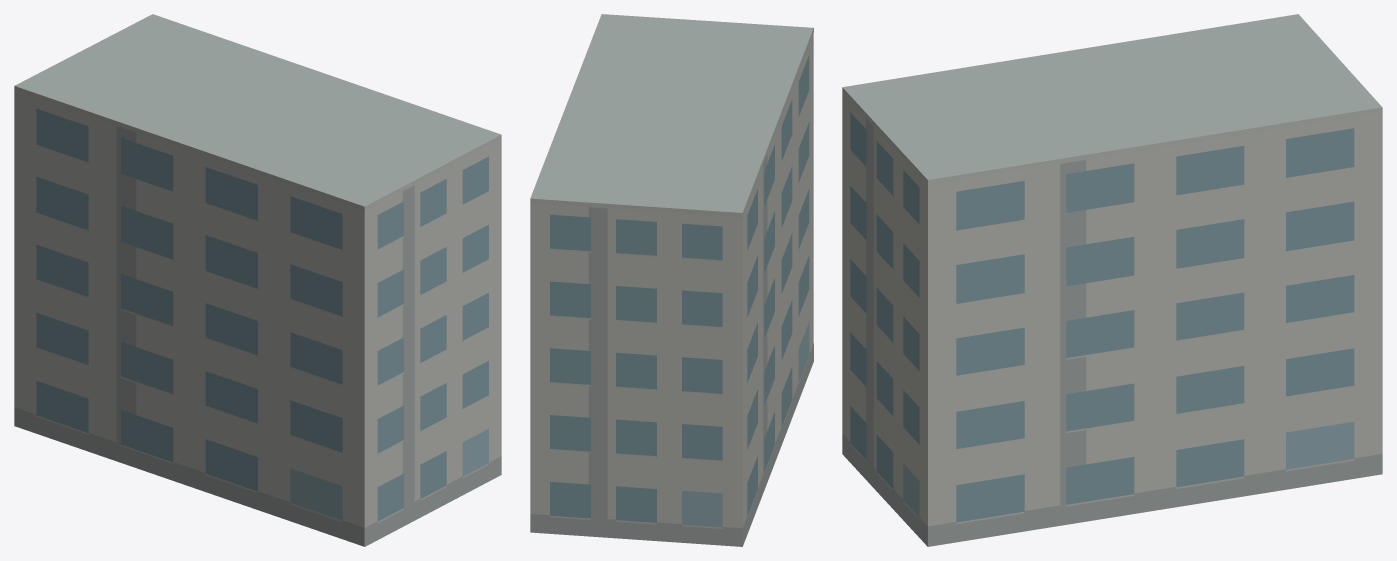
The model's file is survey-upis-32950821.glb.
3 renders of one model, left to right at view 1: azimuth 30°, elevation 25°; view 2: azimuth 150°, elevation 25°; view 3: azimuth 270°, elevation 25°, orthographic. The views are drawn at different scales.
Parts seen in each view (by area): view 1: survey-upis-32950821.tmp; view 2: survey-upis-32950821.tmp; view 3: survey-upis-32950821.tmp.
Part boxes in pixels (x1,y1,x2,y2): survey-upis-32950821.tmp: (14, 14, 501, 546); survey-upis-32950821.tmp: (530, 14, 813, 546); survey-upis-32950821.tmp: (842, 14, 1382, 546).
Size of the model in its own units: 16.99 by 17.5 by 23.36.
